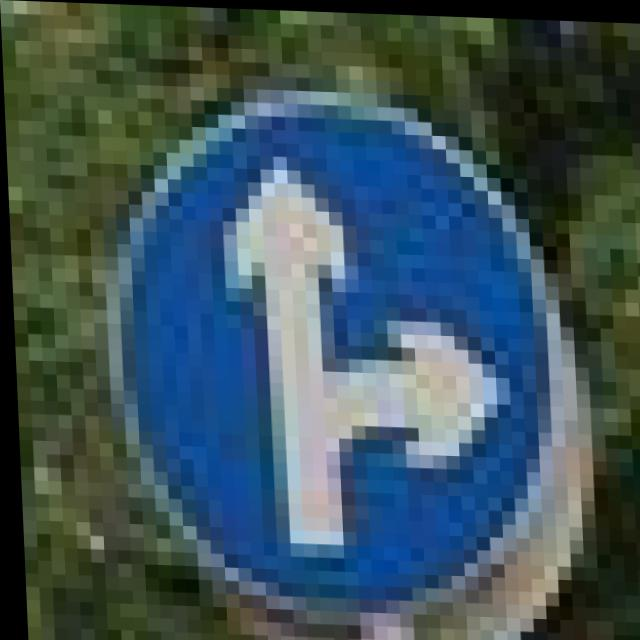COMPULSARY_AHEAD_OR_TURN_RIGHT: (97, 99, 557, 615)
